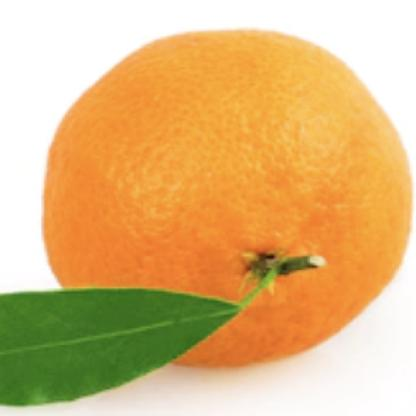fresh: (40, 26, 416, 370)
